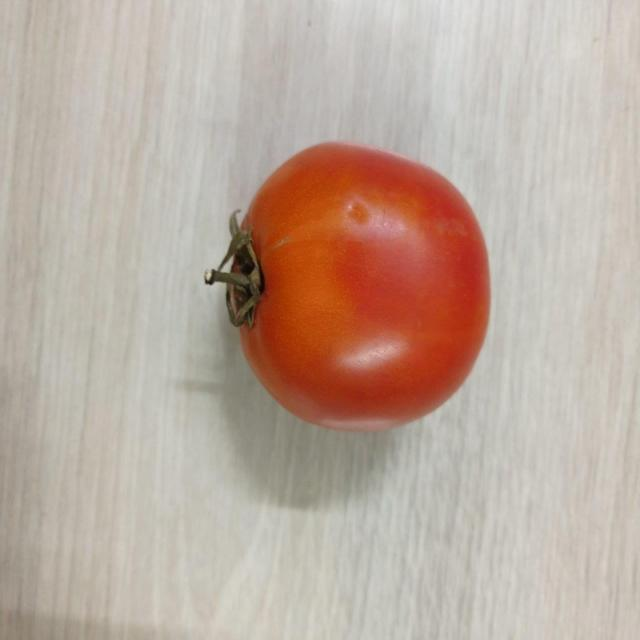Tomato: (204, 135, 494, 435)
